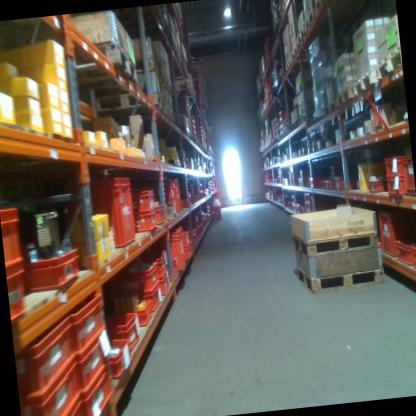pallet: (62, 39, 139, 93), (293, 257, 385, 295), (87, 84, 164, 127), (291, 222, 380, 256), (374, 47, 403, 80), (350, 67, 379, 97), (132, 52, 160, 82), (334, 86, 356, 109), (294, 80, 319, 95), (321, 100, 339, 118), (297, 109, 317, 125), (304, 6, 316, 32), (160, 75, 173, 97), (295, 22, 307, 44), (164, 106, 176, 126), (314, 0, 330, 15), (283, 55, 292, 72), (289, 44, 298, 61), (290, 119, 299, 134)
small_load_carrier: (15, 310, 77, 404), (65, 176, 135, 251), (20, 352, 81, 416), (21, 242, 83, 294), (64, 285, 106, 357), (72, 328, 109, 396), (377, 205, 416, 258), (78, 358, 113, 416), (105, 300, 142, 348), (149, 228, 185, 274), (4, 203, 25, 272), (116, 263, 159, 294), (105, 336, 134, 380), (9, 262, 29, 321), (49, 394, 81, 416), (129, 186, 155, 213), (384, 171, 409, 198), (402, 154, 416, 200), (394, 238, 416, 267), (132, 206, 157, 230), (134, 296, 153, 324), (161, 189, 181, 215), (383, 153, 405, 175), (154, 200, 167, 226), (333, 174, 355, 189), (157, 270, 169, 297), (155, 250, 167, 275), (147, 288, 160, 311), (368, 179, 385, 194), (161, 177, 178, 190), (212, 202, 222, 223), (181, 228, 192, 247), (183, 247, 192, 260), (412, 249, 416, 271)
